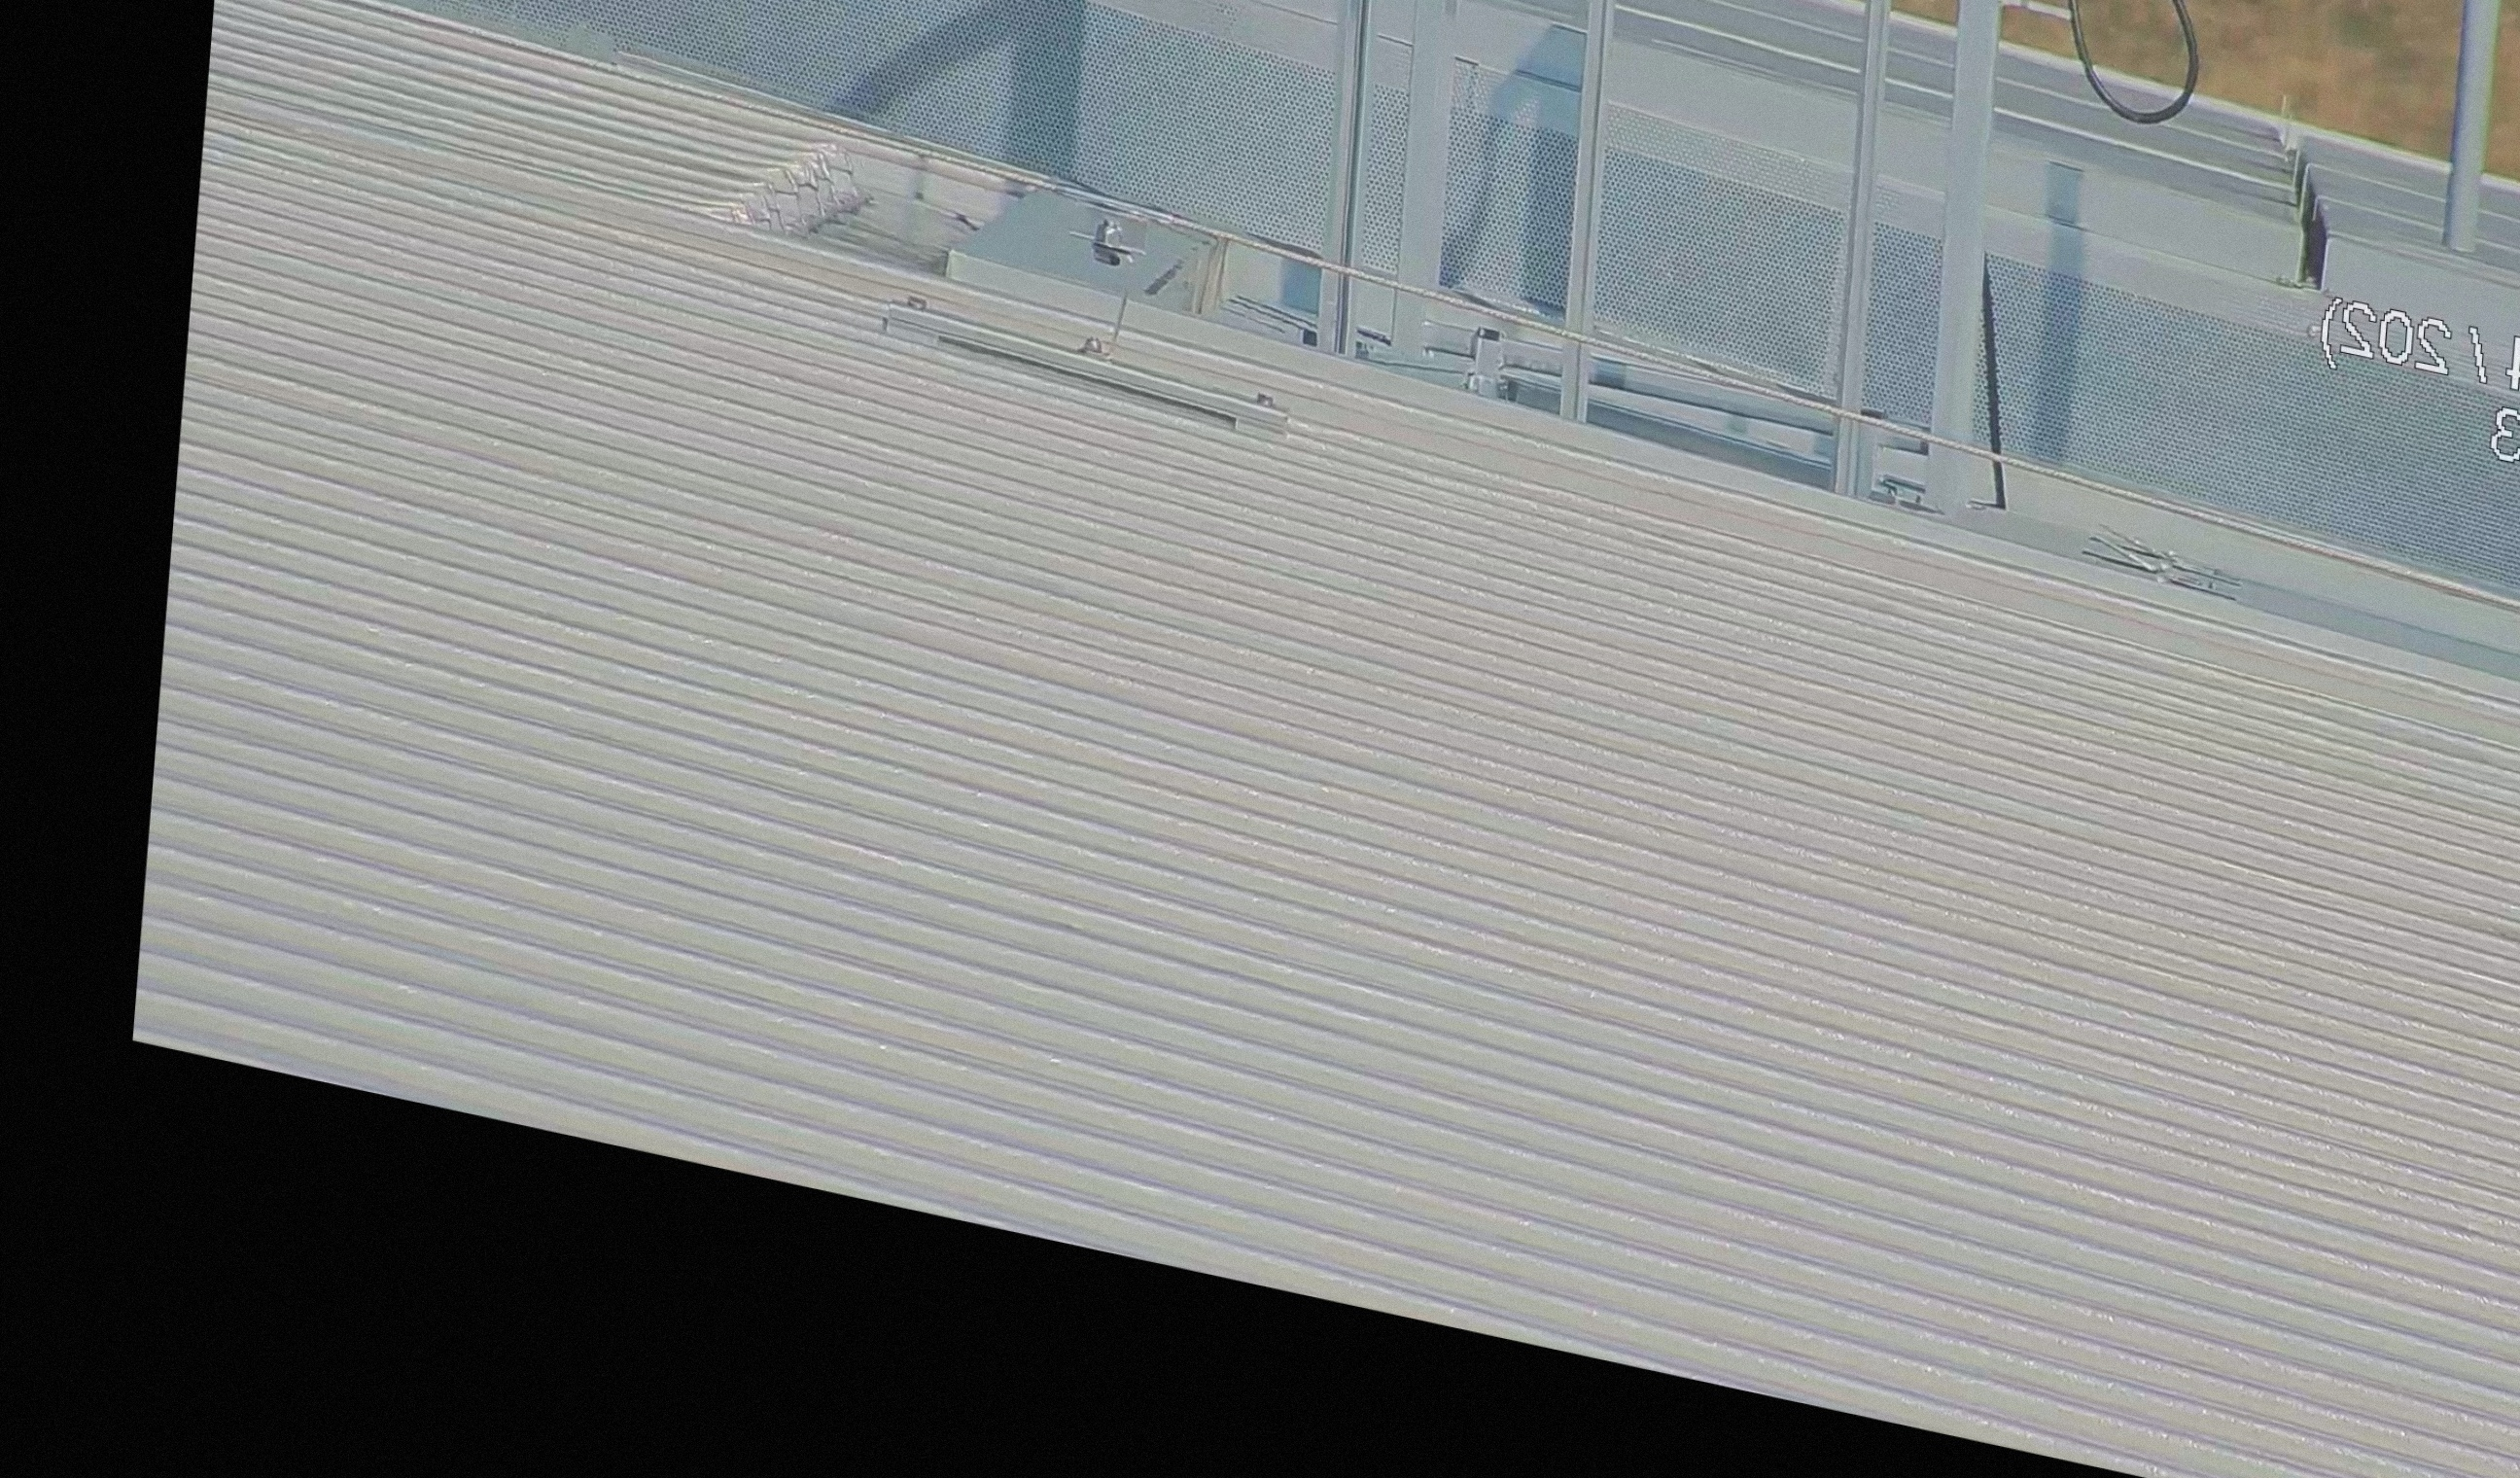Other: (696, 120, 860, 267)
